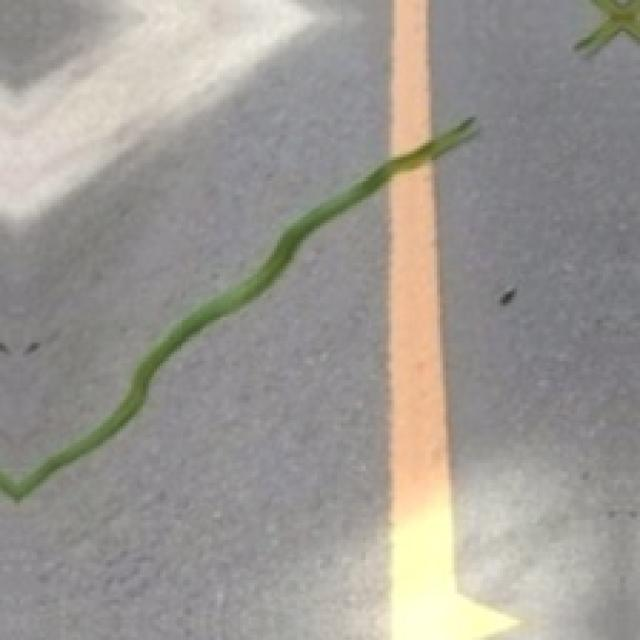red-tailed green ratsnake: (0, 117, 471, 500), (574, 0, 637, 51)
